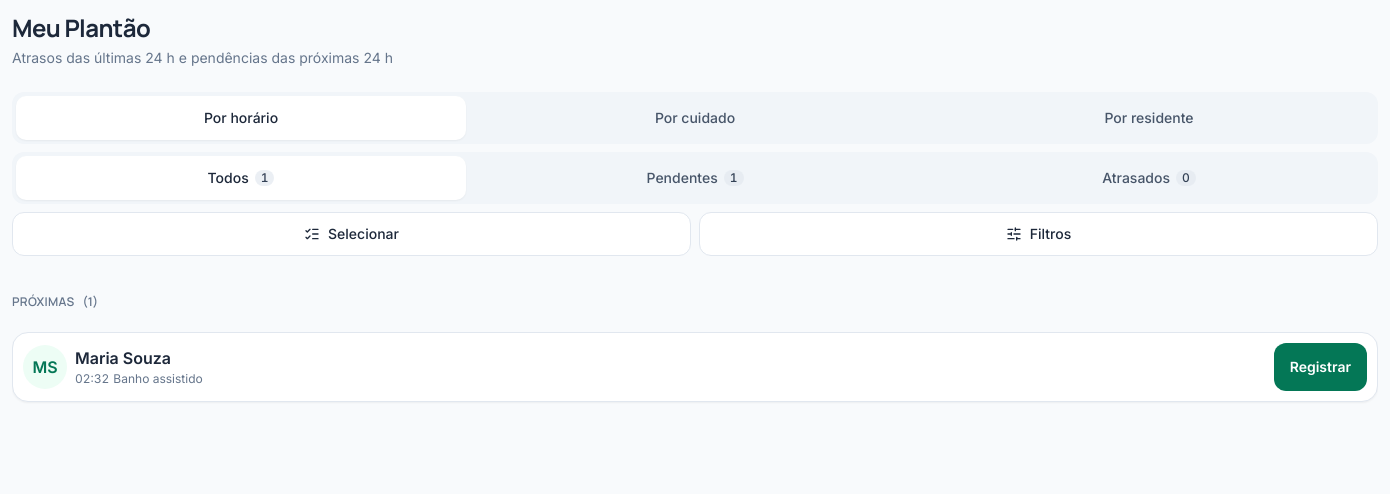
Test: UX-01B — seleção múltipla › o nome acessível da caixa diz cuidado, residente e horário
What coordinates should you click on to do the following:
click the button "Selecionar"
I would click on:
 (352, 234)
Its box is [12,212,691,256].
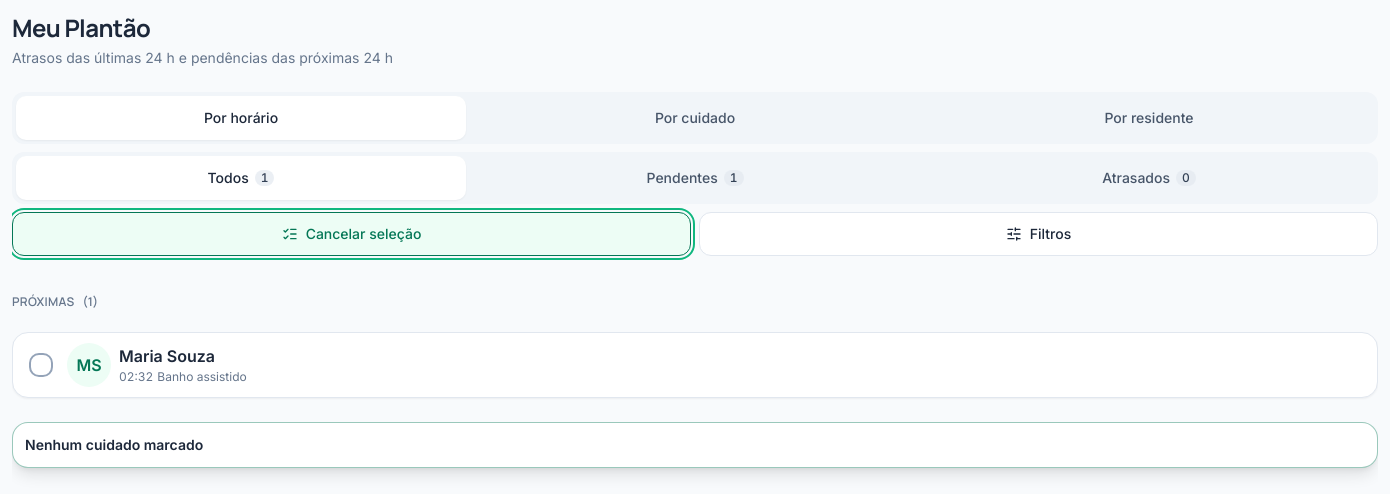
Expected: the checkbox named "Banho assistido — Maria Souza, 20/10 02:32" is shown, [19,343,63,387]
